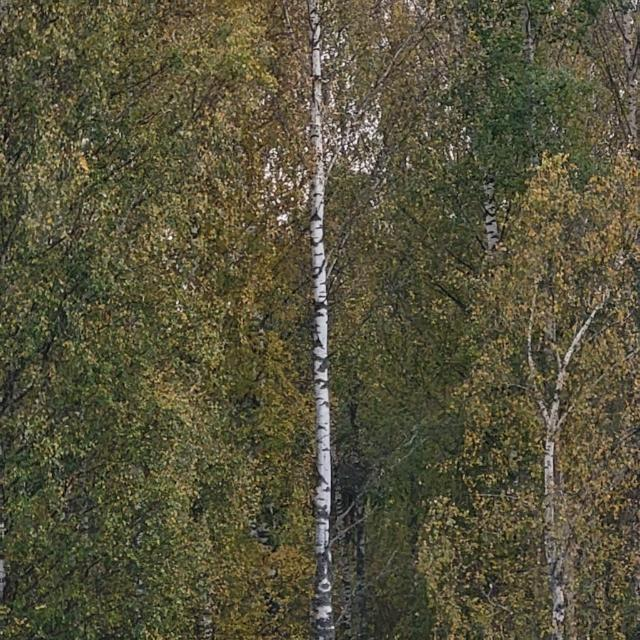birch: (284, 1, 344, 640)
